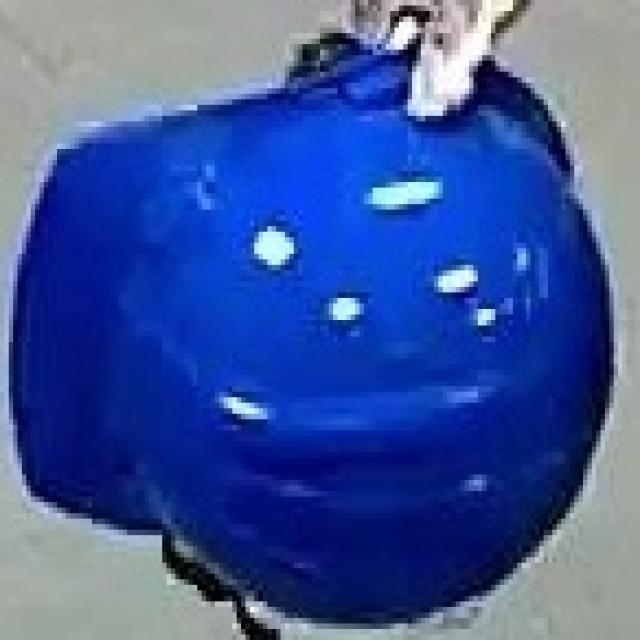helmet: (14, 0, 609, 640)
